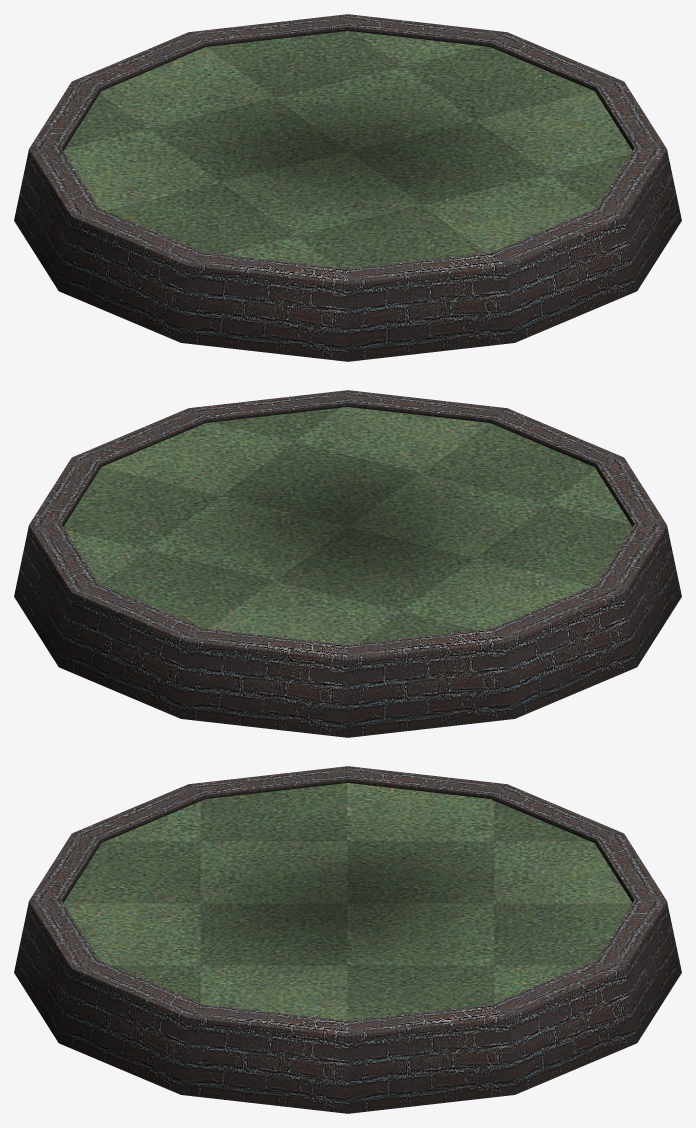
Rendered from Stg_Floor.fbx.
3 views of the same model, one above another, from view 1: azimuth 30°, elevation 25°; view 2: azimuth 150°, elevation 25°; view 3: azimuth 270°, elevation 25° (orthographic).
Visible parts, largest first — view 1: ModelFloor; view 2: ModelFloor; view 3: ModelFloor.
Boxes of the visible parts, x1=… form: ModelFloor: x1=14, y1=14, x2=681, y2=361; ModelFloor: x1=14, y1=390, x2=681, y2=737; ModelFloor: x1=14, y1=766, x2=681, y2=1113.
Size of the model in its own units: 169 by 20.32 by 169.
